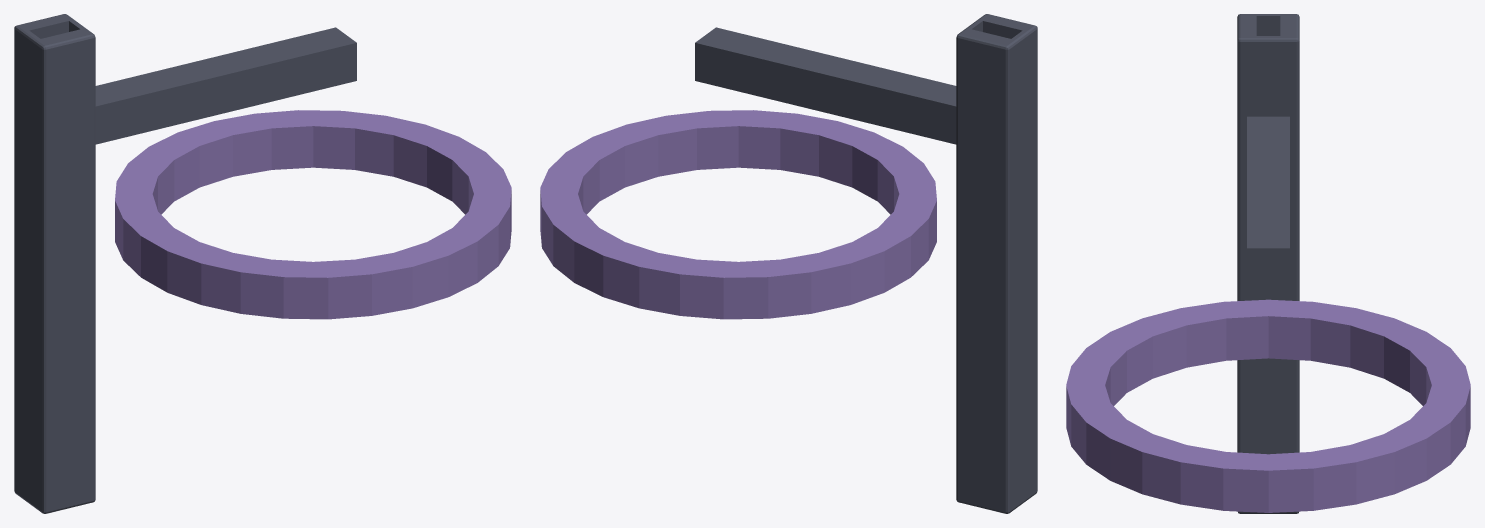
Rendered from place_47a_kessler_beacon.glb.
3 views of the same model, side by side, from view 1: azimuth 30°, elevation 25°; view 2: azimuth 150°, elevation 25°; view 3: azimuth 270°, elevation 25° (orthographic).
Parts seen in each view (by area): view 1: HandoffBeacon_Spine, HandoffBeacon_Covert_Ring; view 2: HandoffBeacon_Spine, HandoffBeacon_Covert_Ring; view 3: HandoffBeacon_Covert_Ring, HandoffBeacon_Spine.
Boxes of the visible parts, x1=… form: HandoffBeacon_Spine: x1=14, y1=14, x2=356, y2=513; HandoffBeacon_Covert_Ring: x1=115, y1=110, x2=511, y2=319; HandoffBeacon_Spine: x1=695, y1=14, x2=1037, y2=513; HandoffBeacon_Covert_Ring: x1=540, y1=110, x2=936, y2=319; HandoffBeacon_Covert_Ring: x1=1066, y1=299, x2=1470, y2=512; HandoffBeacon_Spine: x1=1237, y1=14, x2=1299, y2=513.
Bounding box in the file's own units: 35.33 × 34.56 × 26.62.
